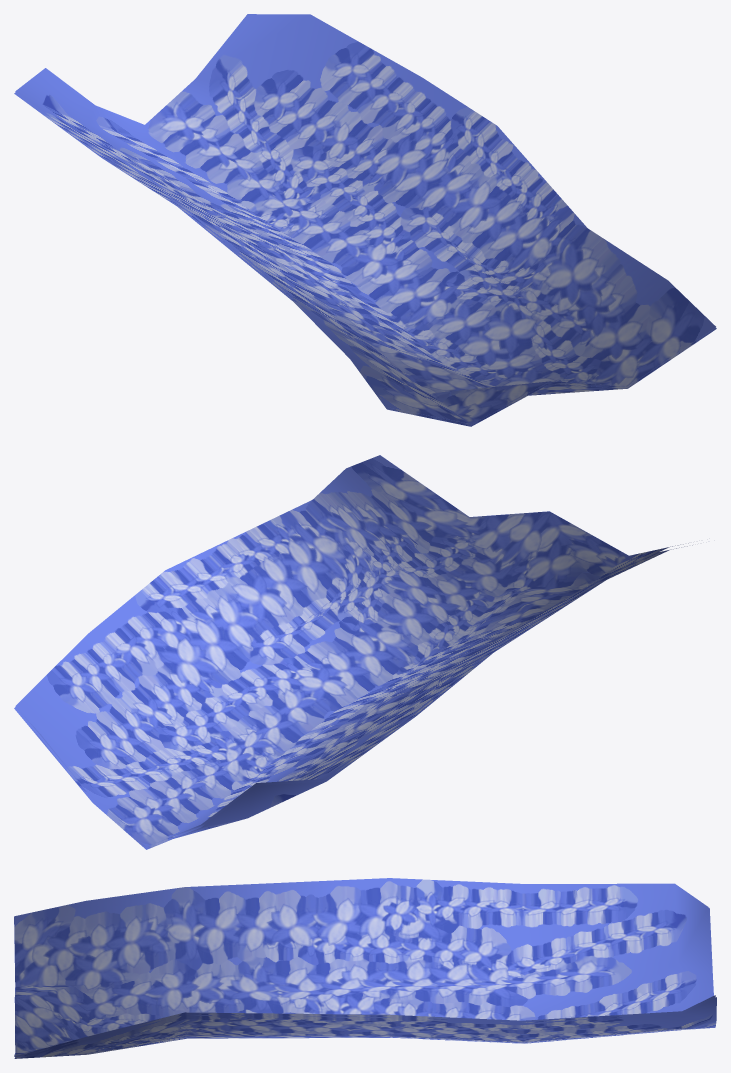
Rendered from bush_2.fbx.
The picture shows the model from 3 angles, top to bottom: view 1: azimuth 30°, elevation 25°; view 2: azimuth 150°, elevation 25°; view 3: azimuth 270°, elevation 25°; orthographic projection. The views are drawn at different scales.
Parts seen in each view (by area): view 1: bush_2; view 2: bush_2; view 3: bush_2.
Part boxes in pixels (left/top/right/bottom): bush_2: left=14, top=14, right=716, bottom=426; bush_2: left=14, top=455, right=692, bottom=849; bush_2: left=14, top=878, right=716, bottom=1058.
Bounding box in the file's own units: 0.6712 × 0.217 × 1.41.
